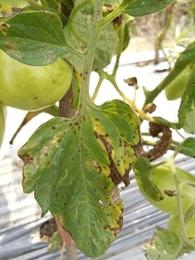Bacterial Spot: (13, 97, 143, 260), (0, 6, 69, 70)
